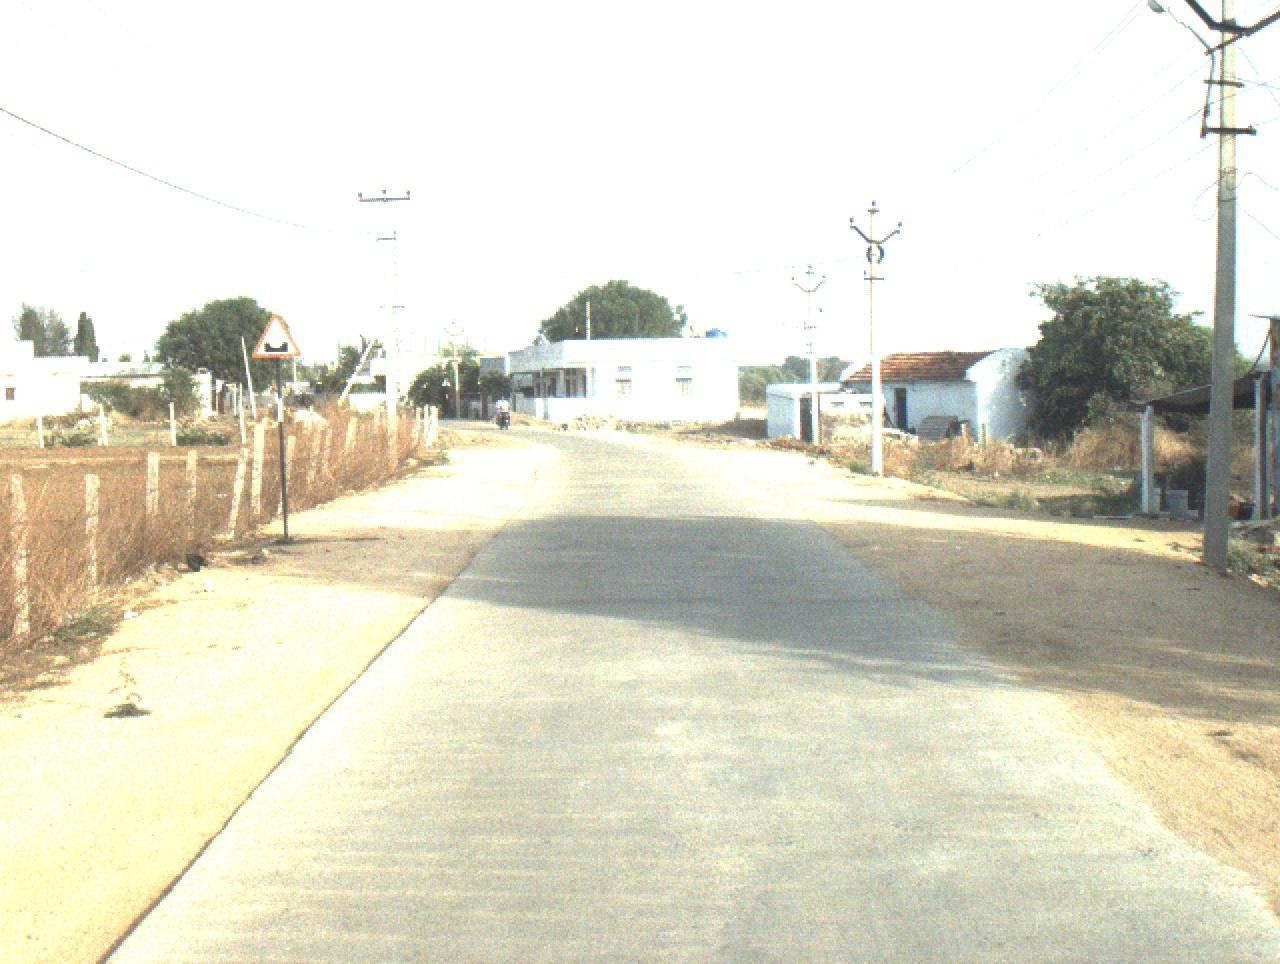off: (0, 0, 1164, 964)
